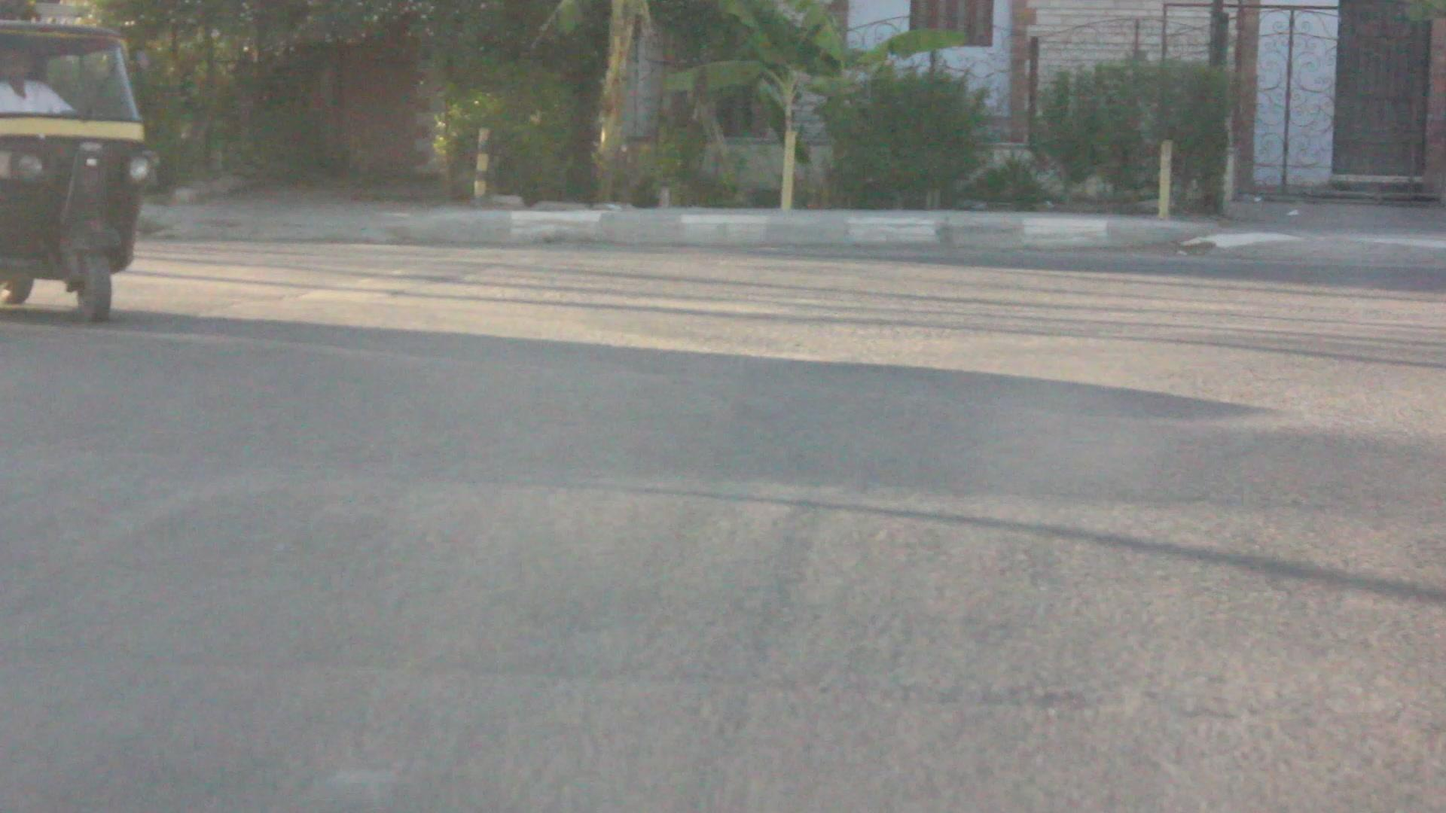Bump: (15, 429, 1446, 728)
